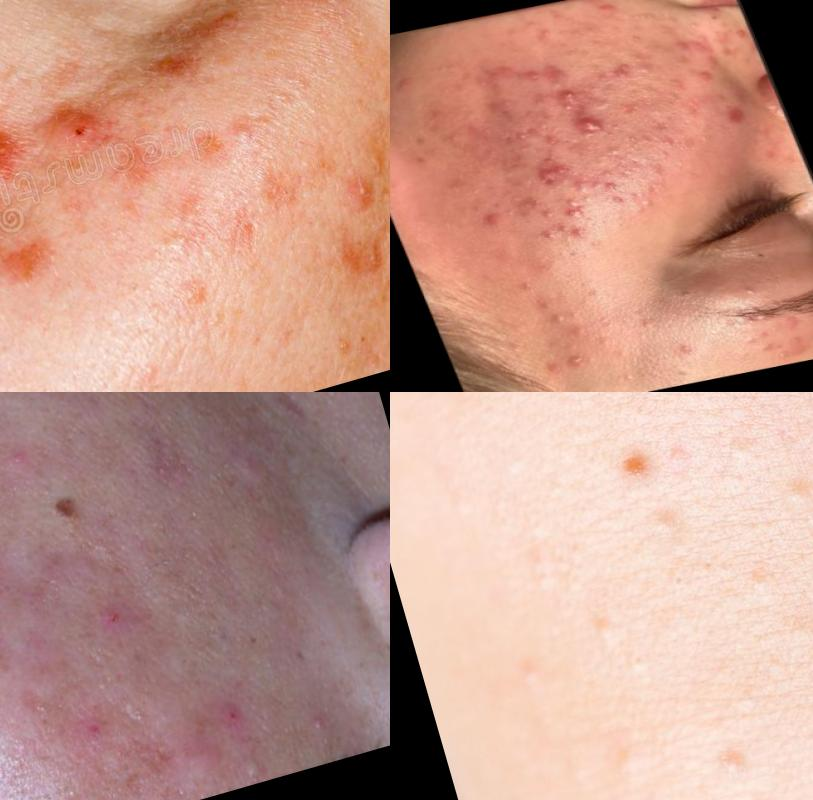blackhead: (280, 113, 320, 162), (376, 193, 391, 247)
cystic: (32, 91, 113, 168)
papular: (531, 62, 581, 96), (714, 103, 754, 130), (605, 60, 644, 87), (682, 32, 713, 57), (472, 210, 507, 231), (519, 195, 553, 216), (506, 128, 538, 147), (664, 38, 694, 58), (691, 67, 720, 86), (728, 23, 755, 43), (520, 68, 547, 85), (593, 1, 621, 17), (541, 134, 565, 150)
purulent: (553, 348, 599, 377), (559, 193, 597, 223), (553, 83, 590, 108), (554, 100, 583, 117), (599, 177, 625, 195), (605, 192, 631, 208), (568, 226, 592, 242), (540, 229, 560, 243), (556, 221, 576, 235), (538, 208, 558, 222)
sebo-crystan-conglo: (159, 676, 270, 796), (519, 160, 575, 193), (565, 113, 616, 141)
whitehead: (628, 483, 709, 564), (602, 711, 669, 793), (284, 687, 359, 753), (759, 451, 813, 524), (159, 183, 228, 234), (583, 393, 694, 420), (540, 304, 598, 344), (739, 325, 787, 362), (621, 46, 662, 86), (734, 274, 777, 303), (666, 338, 704, 367), (597, 141, 631, 163), (566, 174, 597, 195), (628, 8, 660, 24), (633, 132, 661, 150), (661, 12, 685, 29), (621, 132, 643, 150), (535, 28, 559, 43), (562, 47, 581, 60), (627, 33, 646, 46)
